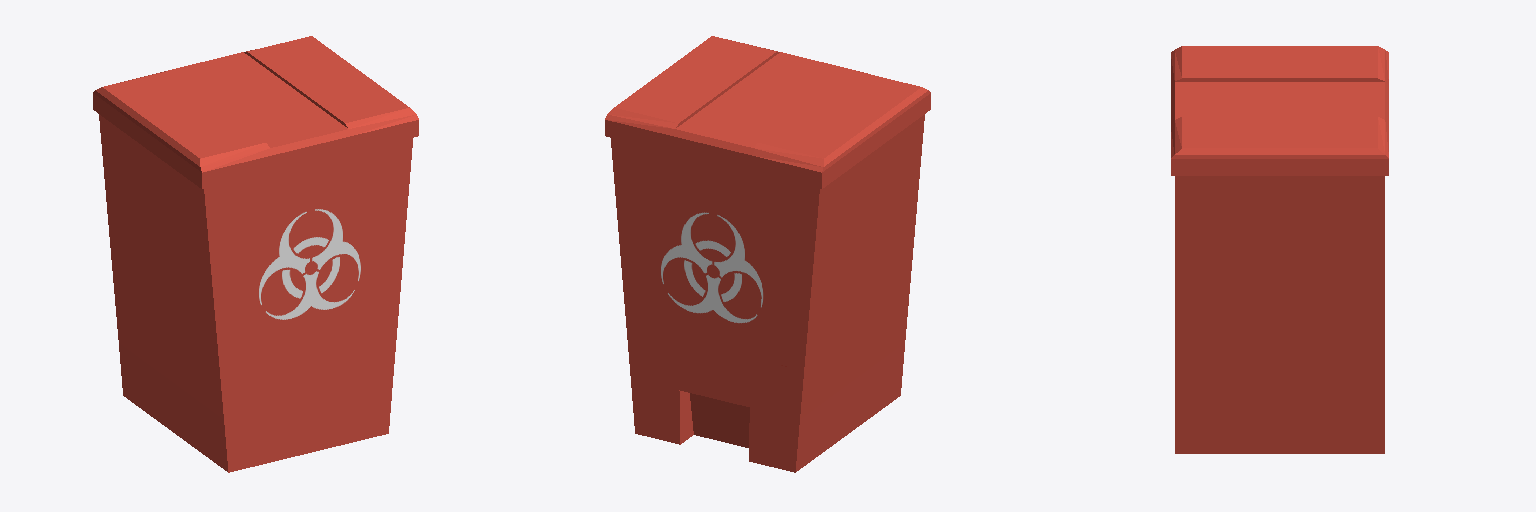
The picture shows the model from 3 angles: view 1: azimuth 30°, elevation 25°; view 2: azimuth 150°, elevation 25°; view 3: azimuth 270°, elevation 25°; orthographic projection.
Visible parts, largest first — view 1: Cube; view 2: Cube; view 3: Cube.
Boxes of the visible parts, <box> form: Cube: <box>93,36,418,472</box>; Cube: <box>605,36,930,472</box>; Cube: <box>1171,46,1388,453</box>.
Bounding box in the file's own units: 2.38 × 3.33 × 2.07.
Materials: 1 (1 with a texture image).